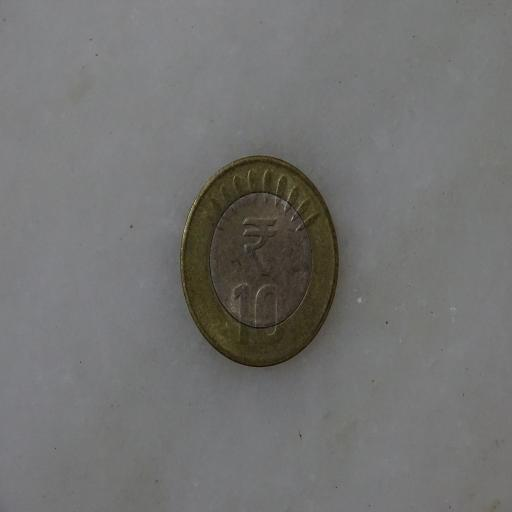rupee10: (178, 153, 343, 370)
